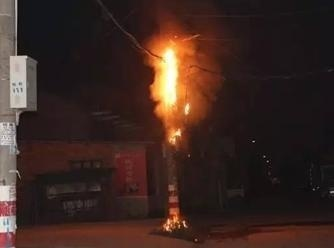fire: (147, 42, 191, 143), (159, 209, 189, 231)
